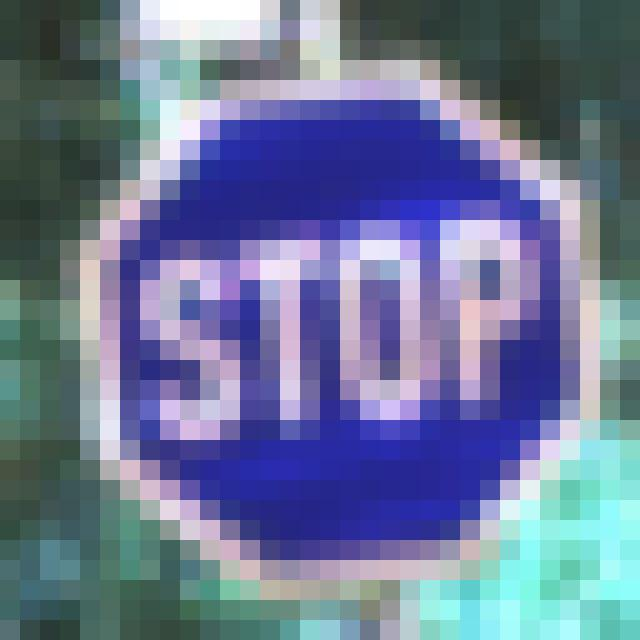STOP: (106, 102, 569, 559)
